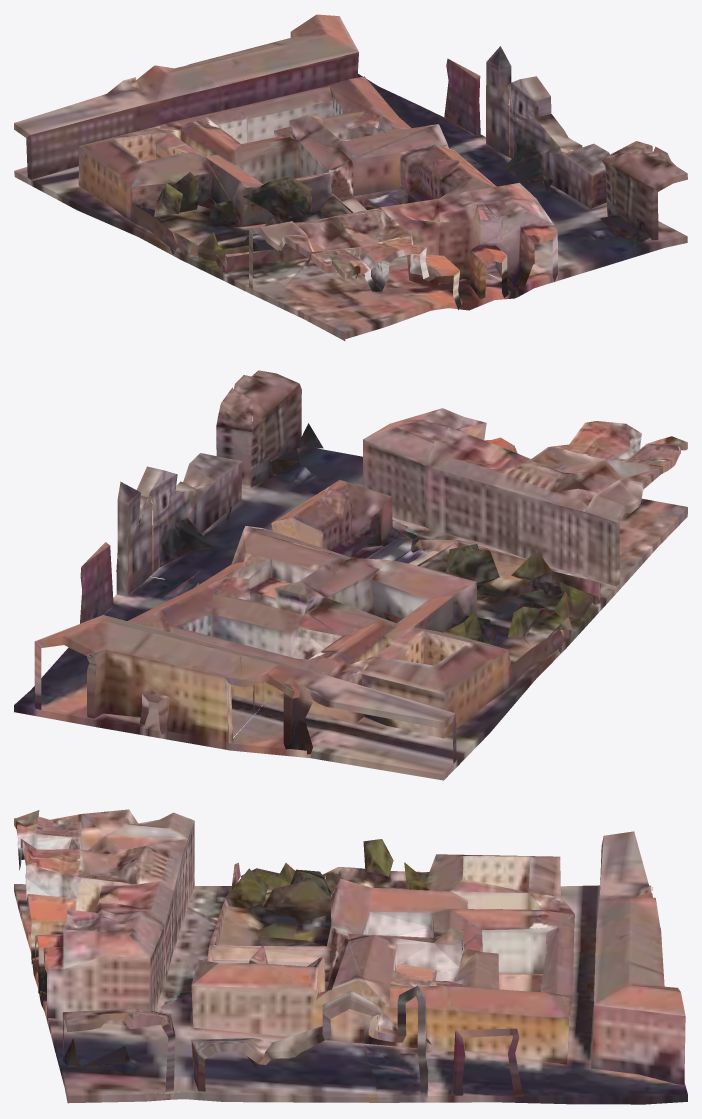
3 views of the same model, one above another, from view 1: azimuth 30°, elevation 25°; view 2: azimuth 150°, elevation 25°; view 3: azimuth 270°, elevation 25° (orthographic). The views are drawn at different scales.
Parts seen in each view (by area): view 1: Mesh_0; view 2: Mesh_0; view 3: Mesh_0.
Part boxes in pixels (bbox=[...]): Mesh_0: bbox=[14, 14, 687, 340]; Mesh_0: bbox=[14, 370, 687, 780]; Mesh_0: bbox=[14, 809, 687, 1104].
Bounding box in the file's own units: 133 × 35.07 × 165.
Materials: 2 (2 with a texture image).
